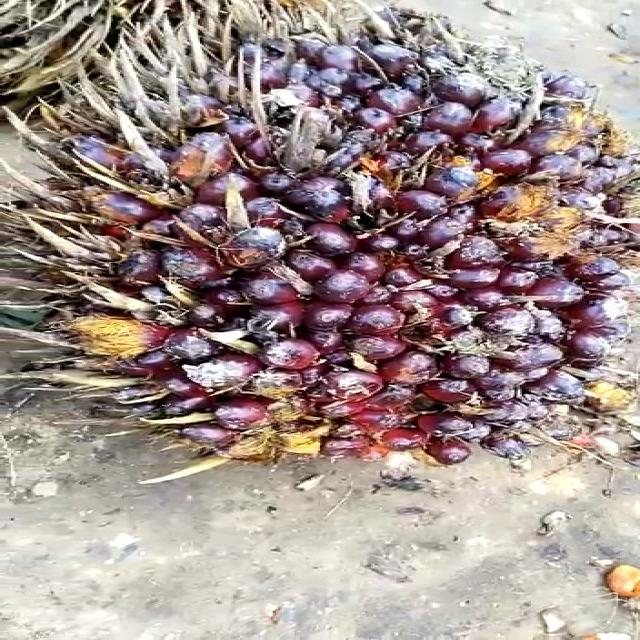palm oil: (26, 14, 640, 471)
